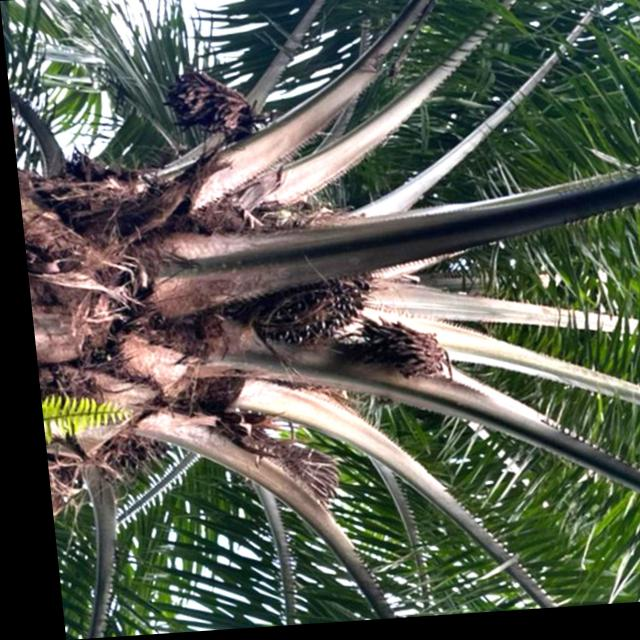almost: (232, 260, 371, 355)
